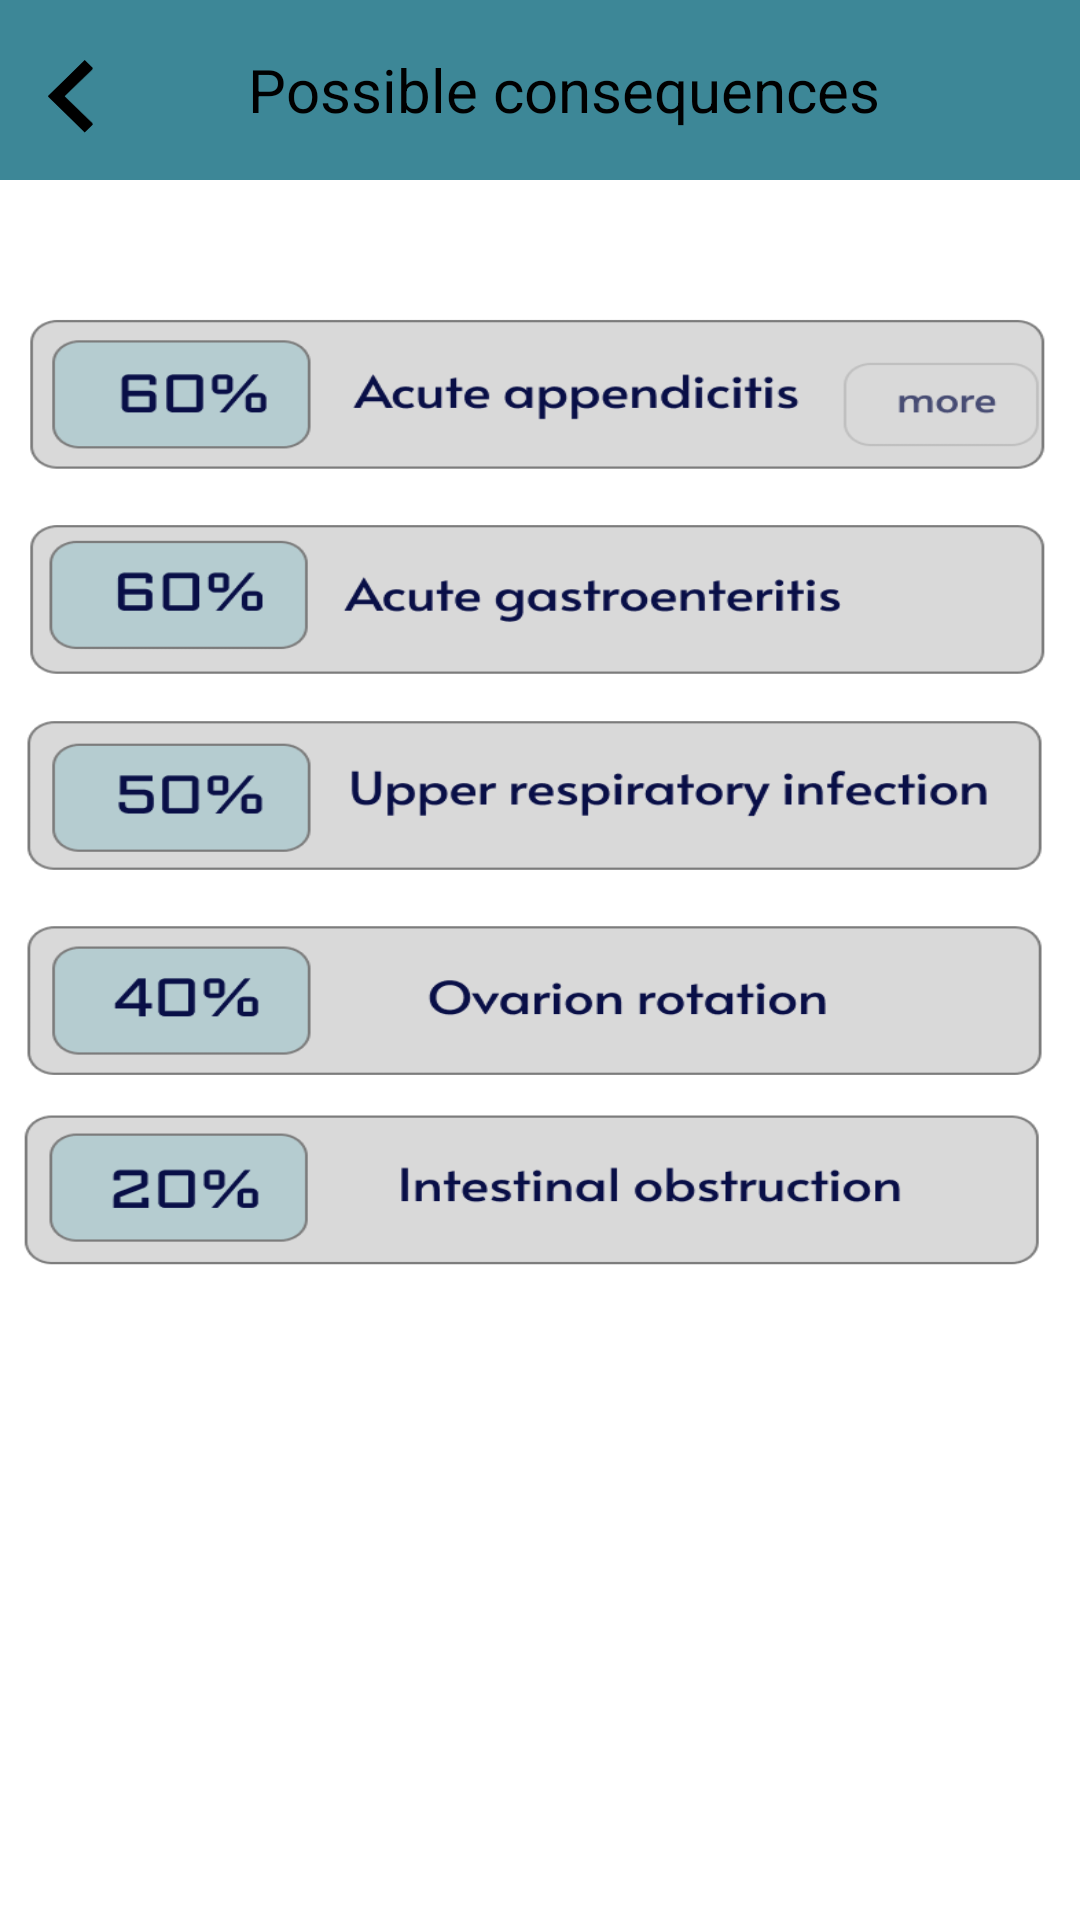

Where to tap for icons on this 1080px x 1920px app screen, as [x,y]:
back: [70,96]
